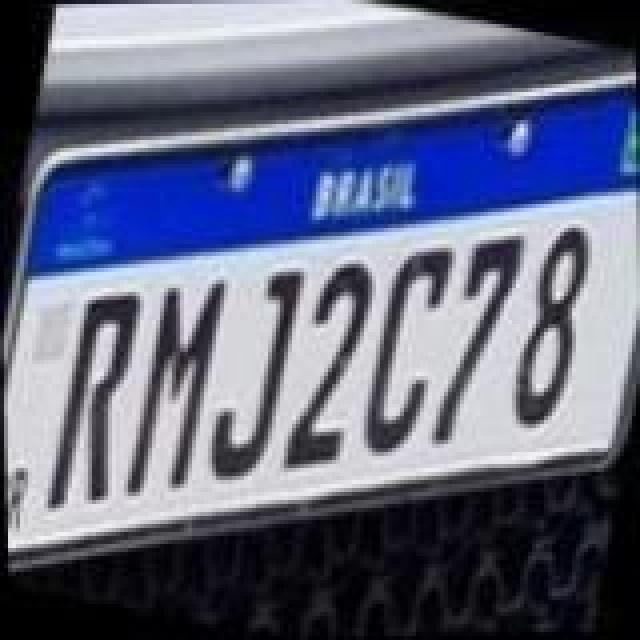2: (276, 252, 384, 480)
7: (424, 224, 532, 456)
8: (502, 212, 606, 436)
C: (352, 234, 460, 462)
J: (194, 260, 306, 492)
M: (118, 262, 234, 506)
R: (36, 284, 148, 524)
